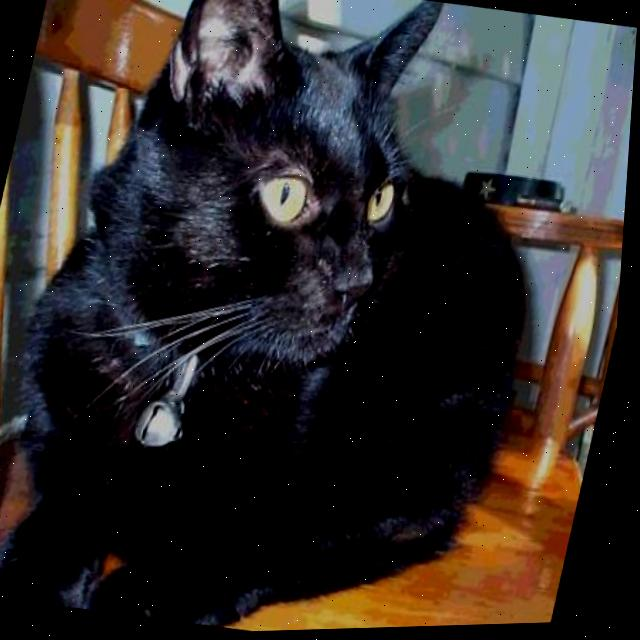Bombay: (0, 0, 600, 640)
